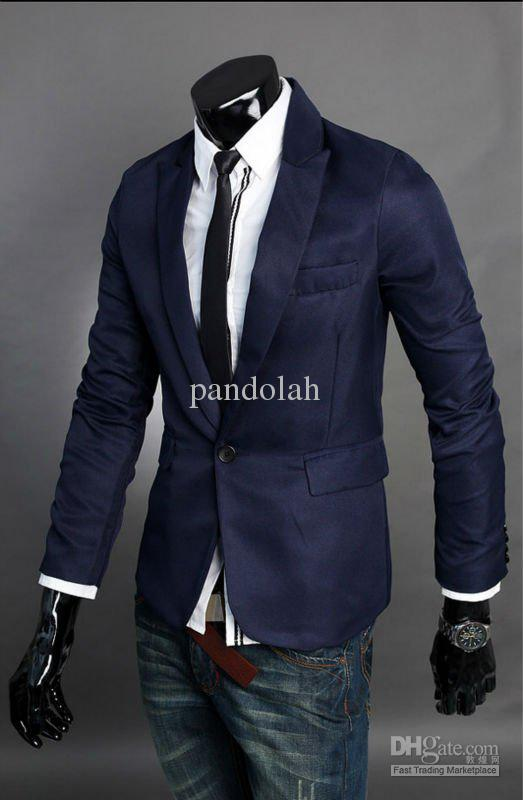C_jeans: (137, 624, 374, 793)
F_M_suit jacket: (38, 89, 515, 648)
F_tie: (198, 150, 247, 417)
